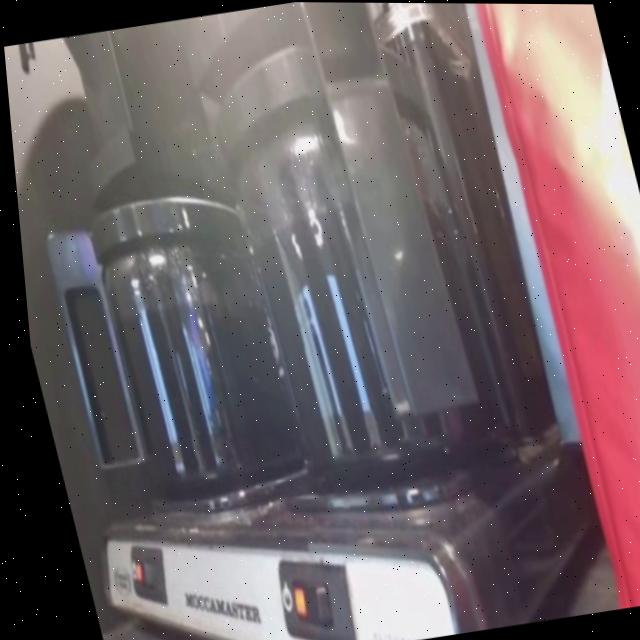coffee: (193, 27, 524, 498), (71, 173, 308, 506)
